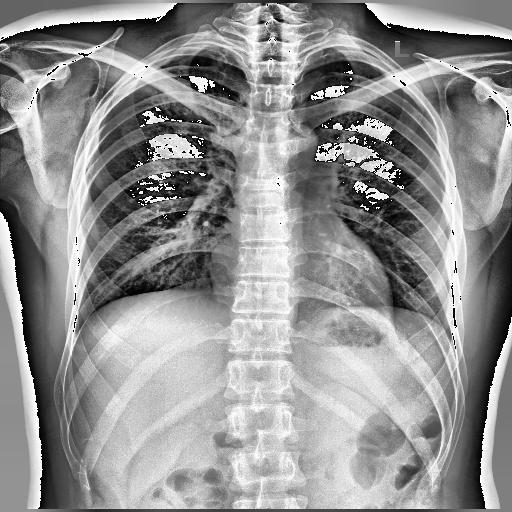13- Pulmonary fibrosis: (144, 48, 228, 140), (136, 54, 234, 124), (198, 45, 234, 101)
